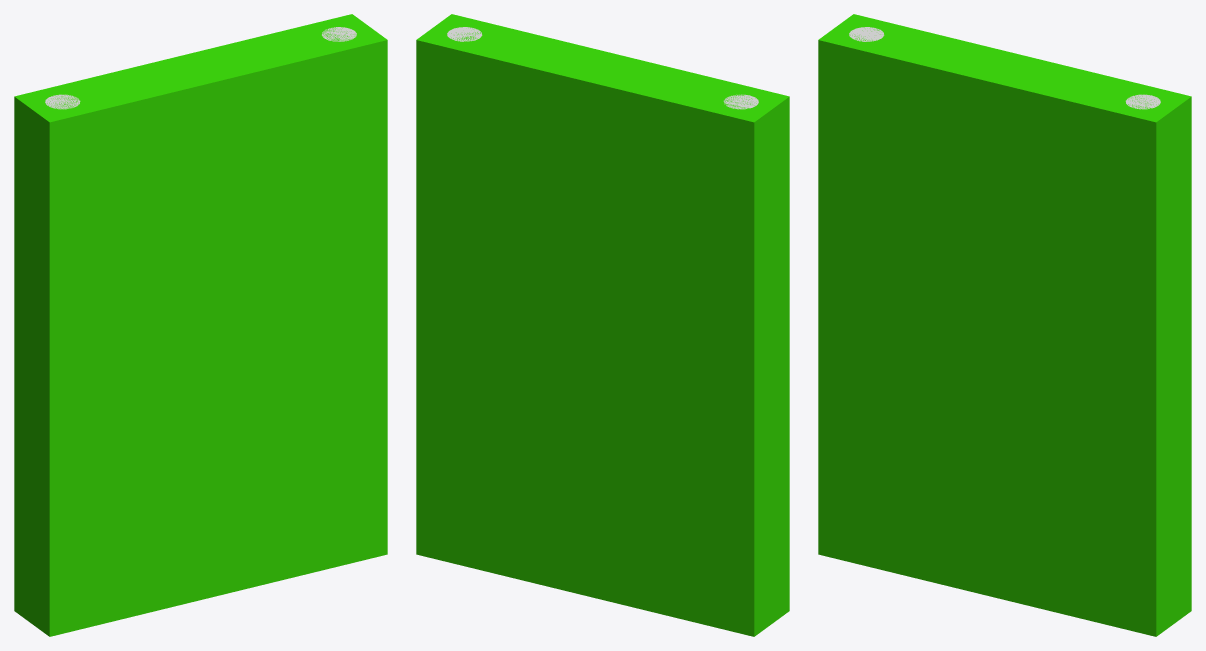
File: ladder_2.glb
The picture shows the model from 3 angles, left to right: view 1: azimuth 30°, elevation 25°; view 2: azimuth 150°, elevation 25°; view 3: azimuth 330°, elevation 25°; orthographic projection.
Visible parts, largest first — view 1: ladder1; view 2: ladder1; view 3: ladder1.
Part boxes in pixels (x1,y1,x2,y2): ladder1: (14,14,387,636); ladder1: (416,14,789,636); ladder1: (818,14,1191,636).
Size of the model in its own units: 22 by 32 by 4.
